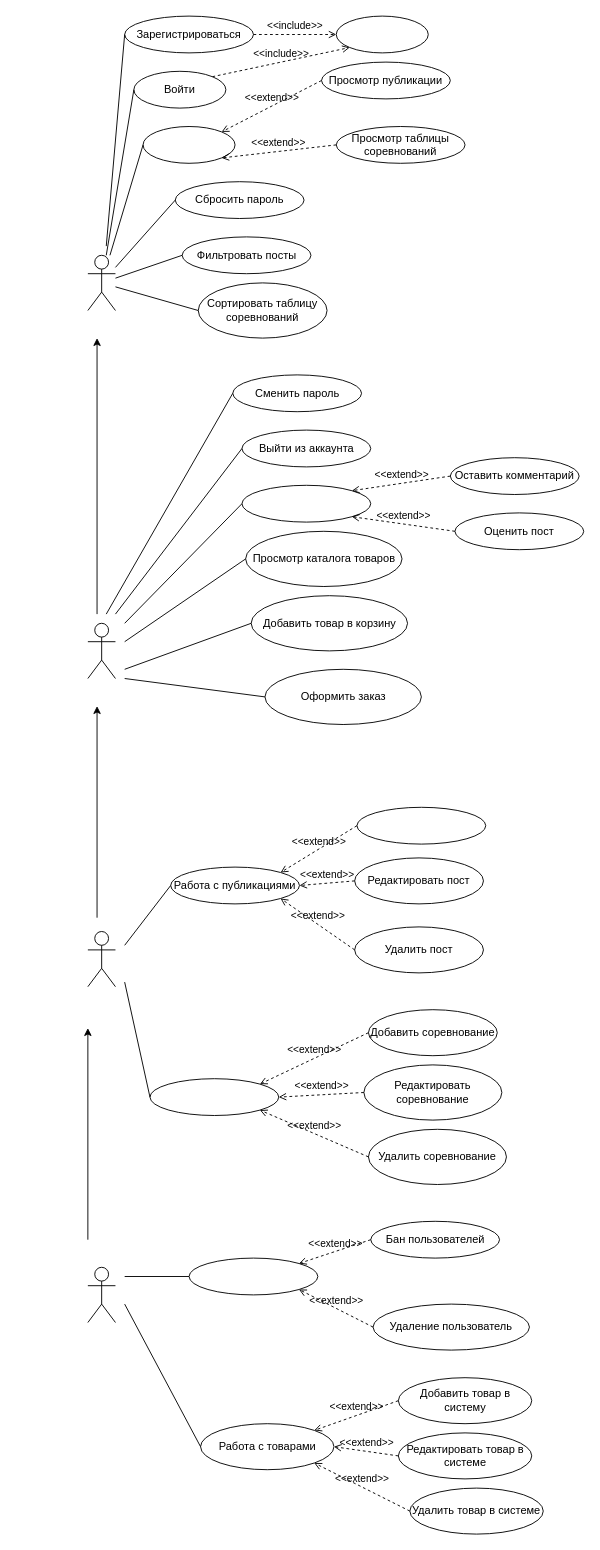
Image size: 600x1550. Some labels were removed from this diagram. Each missing label, with the box of its shape:
Авторизованный пользователь: (87, 622, 115, 678)
Администратор: (87, 1266, 115, 1322)
Модерация: (188, 1257, 318, 1295)
Неавторизованный пользователь: (87, 254, 115, 310)
Оставить обратную связь автору: (241, 484, 371, 522)
По почте: (335, 15, 428, 53)
Просмотр контента: (142, 126, 235, 163)
Публикант: (87, 931, 115, 987)
Публиковать пост: (356, 806, 486, 844)
Работа с таблицей соревнований: (149, 1078, 279, 1116)
